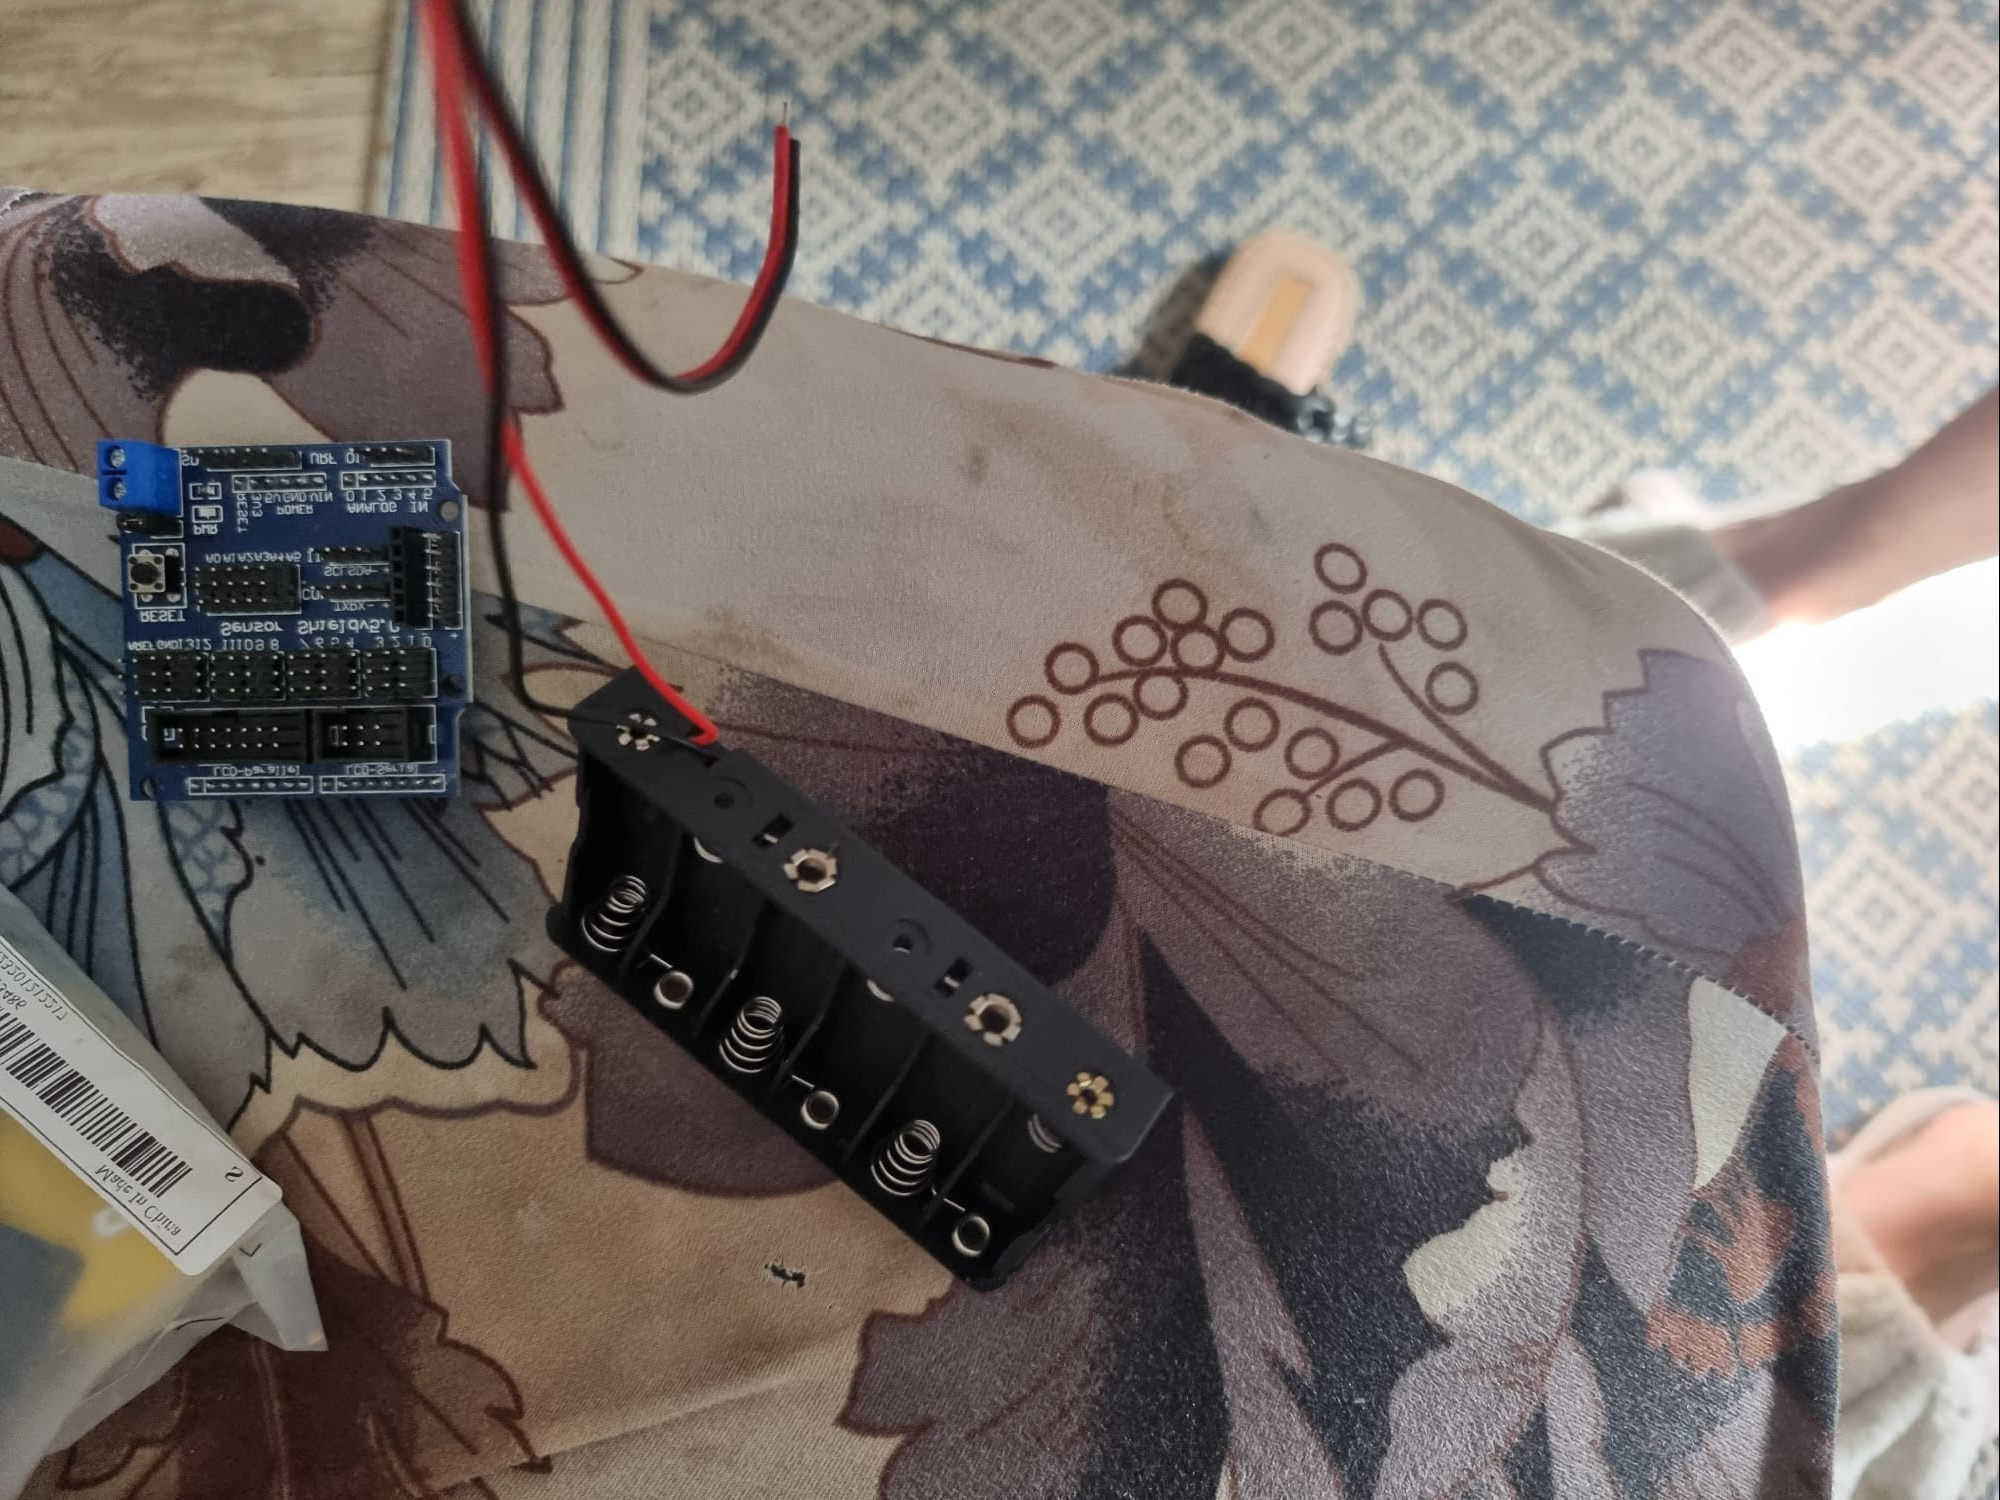5V EXPANSION: (85, 425, 485, 800)
BATTERY BOX: (561, 704, 1202, 1295)
